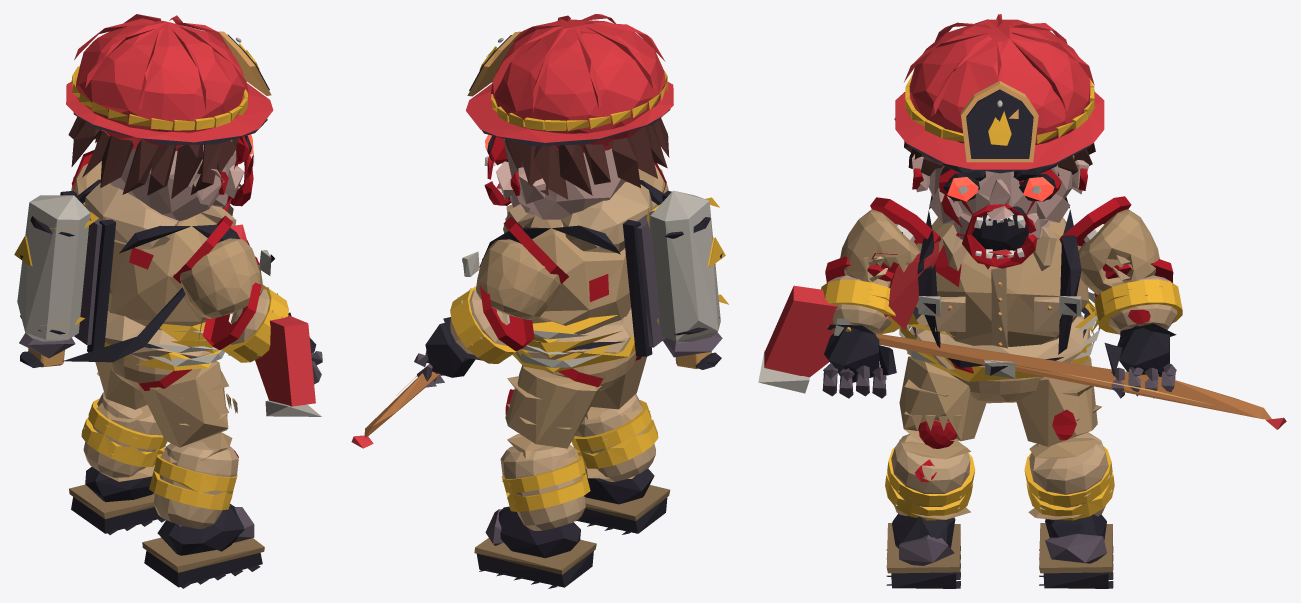
File: inf.firefighter.lod1.glb
3 renders of one model, left to right at view 1: azimuth 30°, elevation 25°; view 2: azimuth 150°, elevation 25°; view 3: azimuth 270°, elevation 25°, orthographic. The views are drawn at different scales.
Visible parts, largest first — view 1: head, torso, backpackSocket, shinR, footR, shinL, legR, axe, armR, footL, foreArmR, stump_foreArmR (+5 smaller); view 2: head, torso, backpackSocket, shinL, footL, legL, shinR, armL, footR, foreArmL, handL, stump_foreArmL (+4 smaller); view 3: head, torso, axe, shinL, shinR, legR, footR, footL, armL, legL, handR, foreArmL (+6 smaller).
Part boxes in pixels (bbox=[...]): head: bbox=[66, 14, 273, 221]; torso: bbox=[62, 179, 274, 370]; backpackSocket: bbox=[14, 191, 115, 367]; shinR: bbox=[149, 432, 238, 528]; footR: bbox=[142, 504, 264, 588]; shinL: bbox=[81, 392, 167, 481]; legR: bbox=[139, 361, 237, 447]; axe: bbox=[230, 224, 321, 416]; armR: bbox=[180, 238, 263, 318]; footL: bbox=[69, 467, 165, 534]; foreArmR: bbox=[221, 285, 288, 362]; stump_foreArmR: bbox=[202, 282, 261, 350]; head: bbox=[466, 14, 673, 219]; torso: bbox=[462, 180, 663, 372]; backpackSocket: bbox=[622, 190, 728, 369]; shinL: bbox=[500, 434, 590, 530]; footL: bbox=[474, 506, 596, 588]; legL: bbox=[505, 365, 601, 448]; shinR: bbox=[571, 394, 658, 481]; armL: bbox=[476, 239, 560, 320]; footR: bbox=[575, 468, 670, 534]; foreArmL: bbox=[450, 286, 520, 363]; handL: bbox=[414, 317, 482, 387]; stump_foreArmL: bbox=[480, 286, 534, 351]; head: bbox=[894, 14, 1104, 269]; torso: bbox=[899, 195, 1100, 381]; axe: bbox=[758, 241, 1286, 429]; shinL: bbox=[1024, 432, 1114, 520]; shinR: bbox=[885, 434, 975, 520]; legR: bbox=[899, 356, 986, 448]; footR: bbox=[886, 513, 960, 588]; footL: bbox=[1039, 514, 1113, 588]; armL: bbox=[1078, 209, 1159, 294]; legL: bbox=[1016, 356, 1101, 446]; handR: bbox=[822, 324, 896, 398]; foreArmL: bbox=[1094, 275, 1182, 334].
Bounding box in the file's own units: 0.8584 × 1.79 × 1.6.
